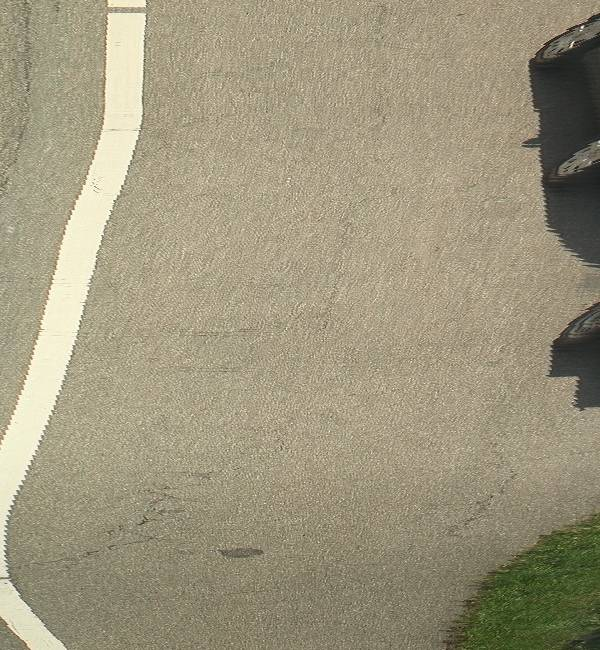road_damage: (56, 478, 190, 573), (442, 466, 523, 546)
